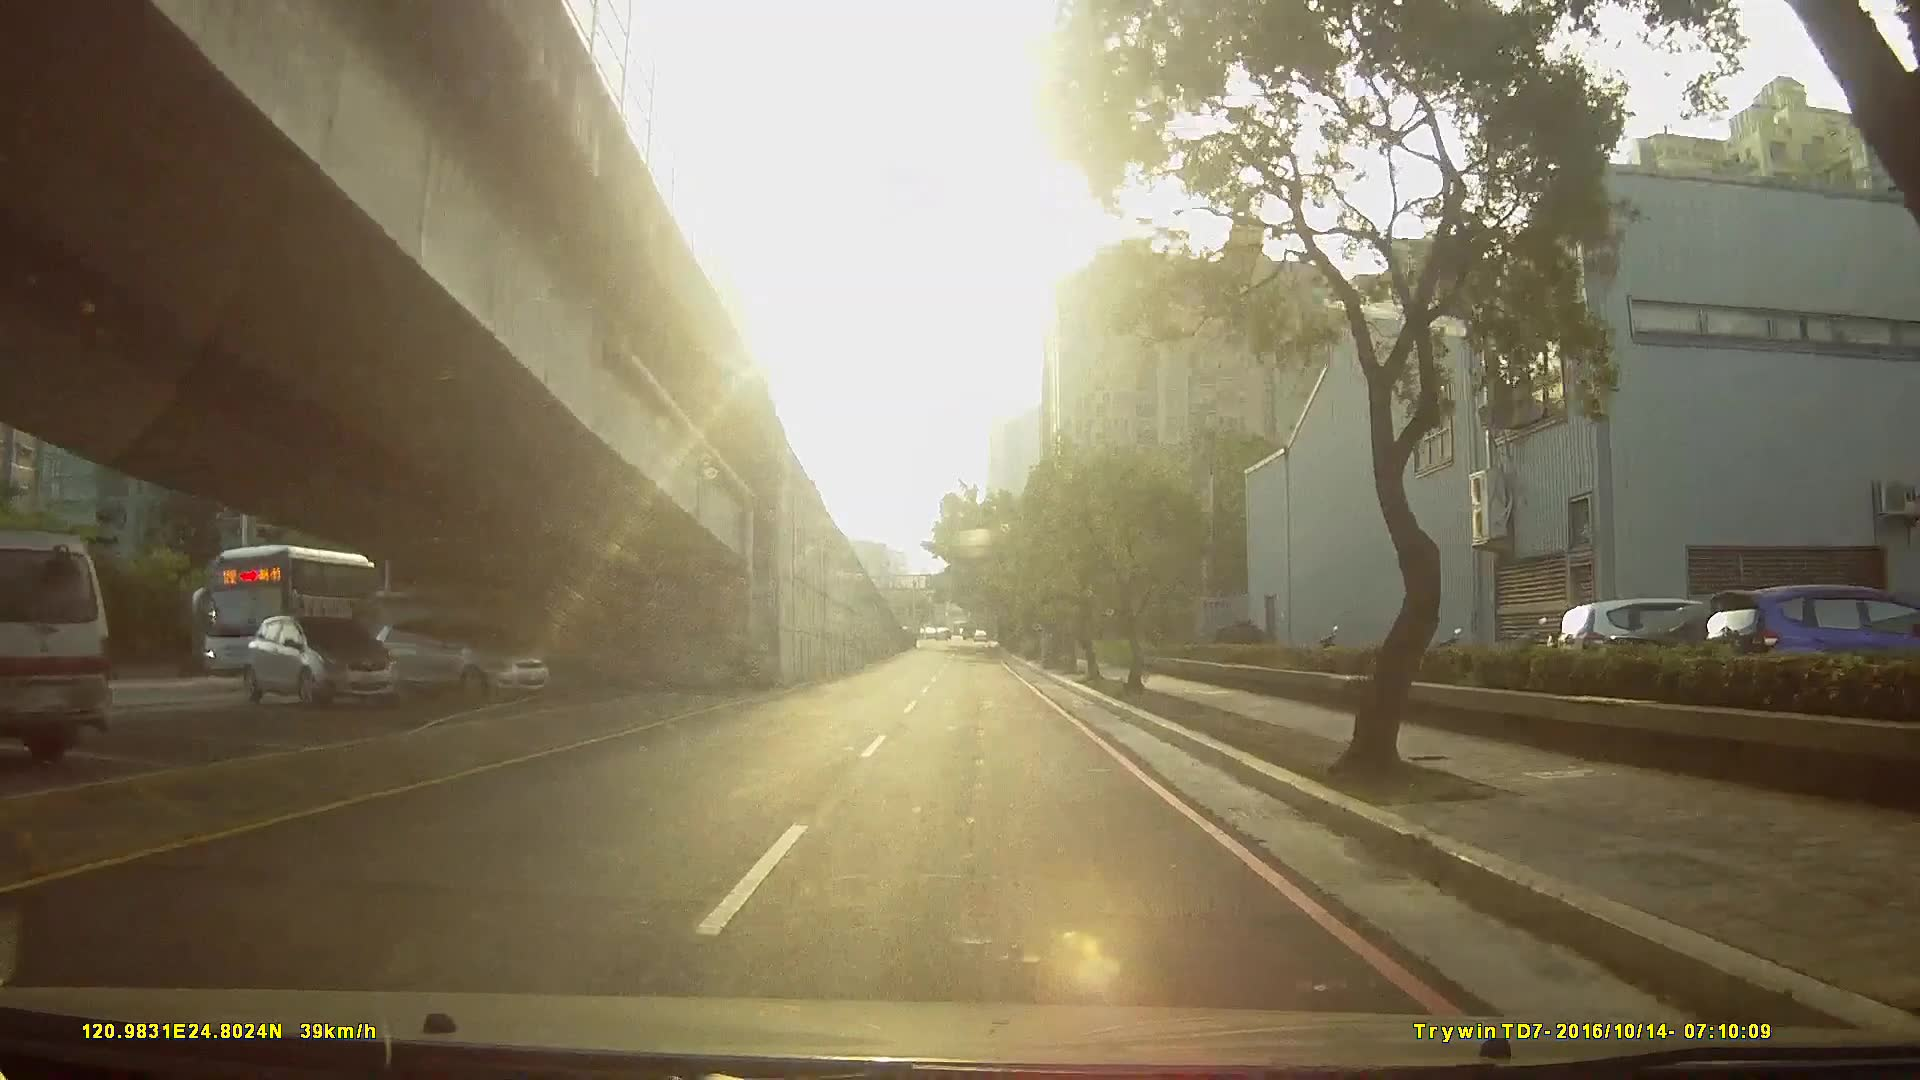vehicle: (189, 539, 447, 698), (1, 525, 129, 775), (360, 618, 545, 704), (231, 612, 393, 707)
